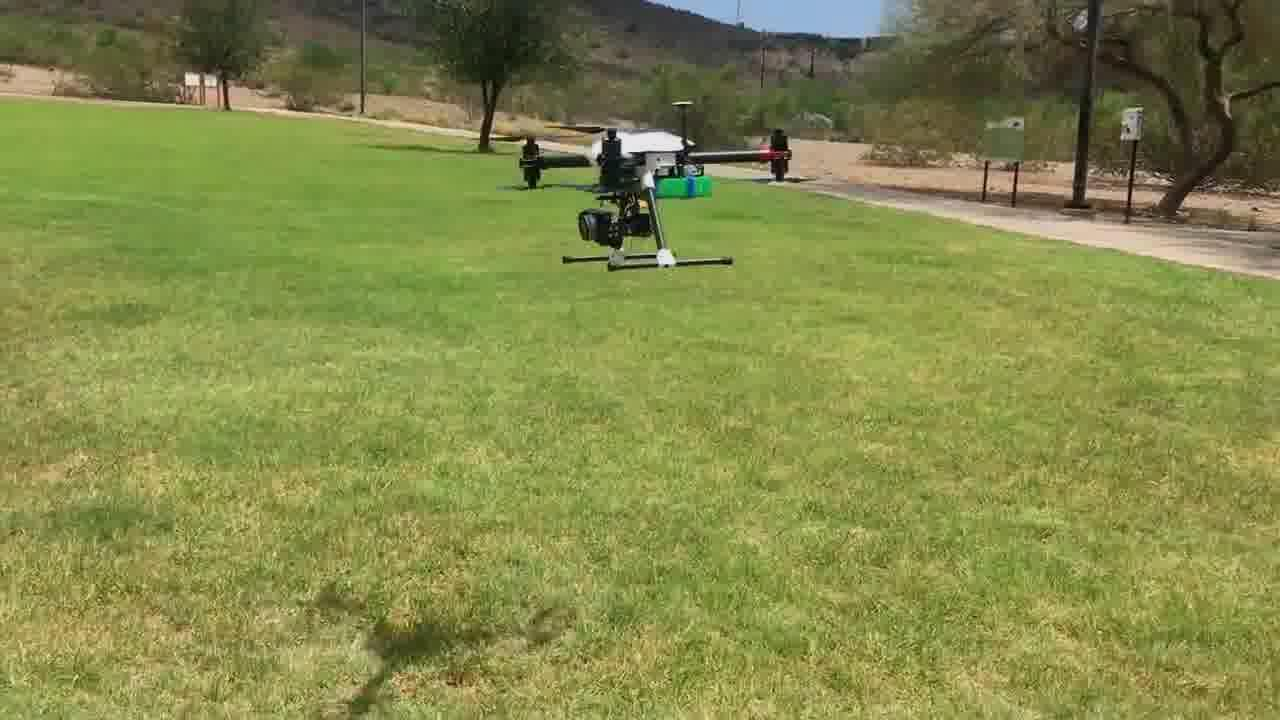drone: (481, 99, 819, 272)
